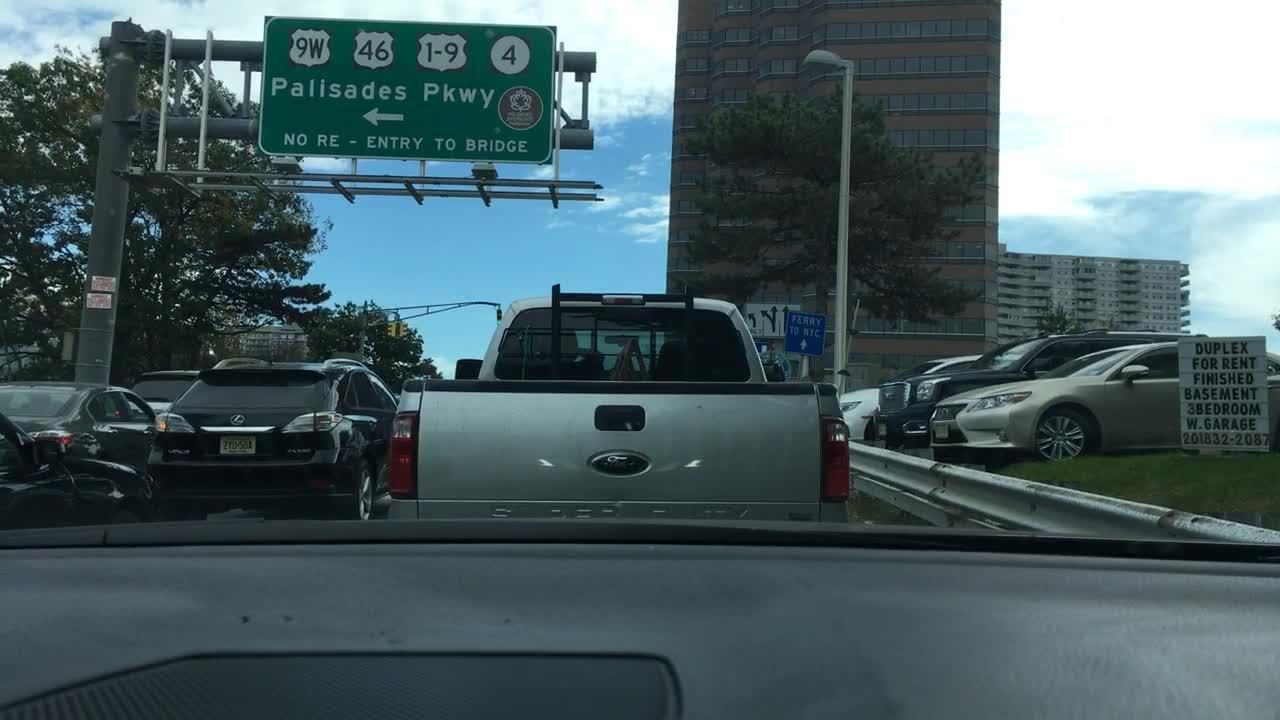ford: (574, 442, 669, 493)
lexus: (219, 408, 260, 432)
